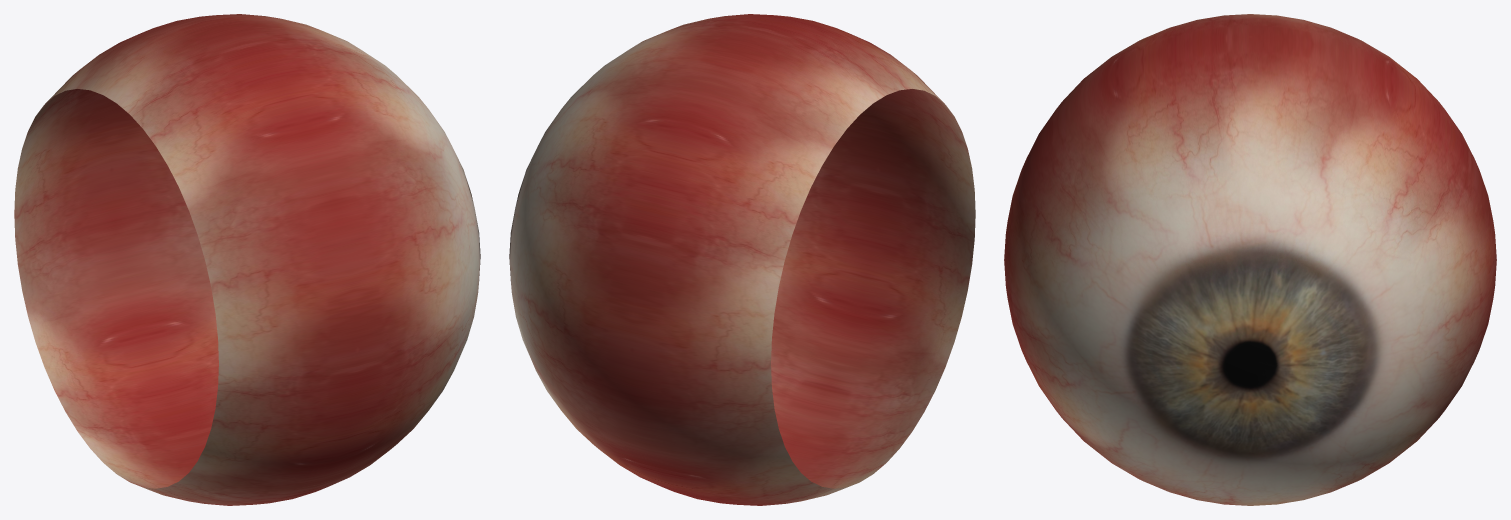
File: default_eye_ball.glb
3 views of the same model, side by side, from view 1: azimuth 30°, elevation 25°; view 2: azimuth 150°, elevation 25°; view 3: azimuth 270°, elevation 25° (orthographic).
Visible parts, largest first — view 1: Round_0; view 2: Round_0; view 3: Round_0.
Boxes of the visible parts, x1,y1,x2,y2 form: Round_0: [14, 14, 480, 505]; Round_0: [509, 14, 975, 505]; Round_0: [1004, 14, 1496, 505].
Size of the model in its own units: 3.42 by 4.4 by 4.4.
Materials: 1 (1 with a texture image).
